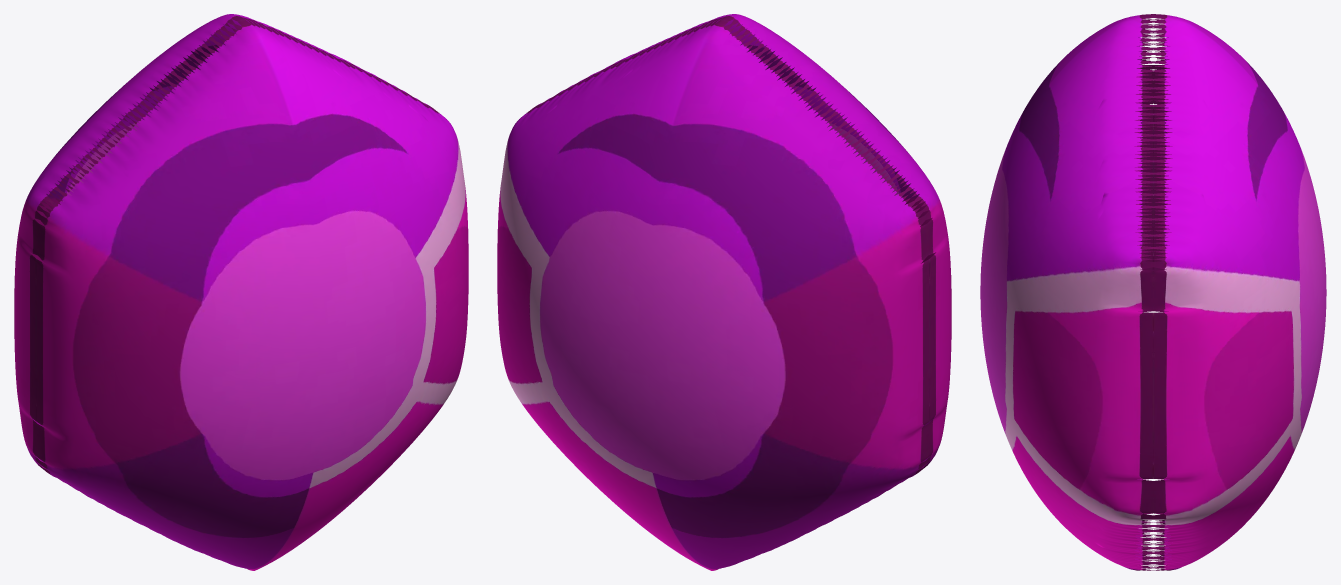
The model's file is gem.glb.
3 views of the same model, side by side, from view 1: azimuth 30°, elevation 25°; view 2: azimuth 150°, elevation 25°; view 3: azimuth 270°, elevation 25° (orthographic). The views are drawn at different scales.
Parts seen in each view (by area): view 1: gem; view 2: gem; view 3: gem.
Boxes of the visible parts, left/top/right/bottom form: gem: left=14, top=14, right=468, bottom=570; gem: left=497, top=14, right=951, bottom=570; gem: left=980, top=14, right=1326, bottom=570.
Bounding box in the file's own units: 0.9862 × 1.24 × 0.7045.
1 material, 1 textured.
